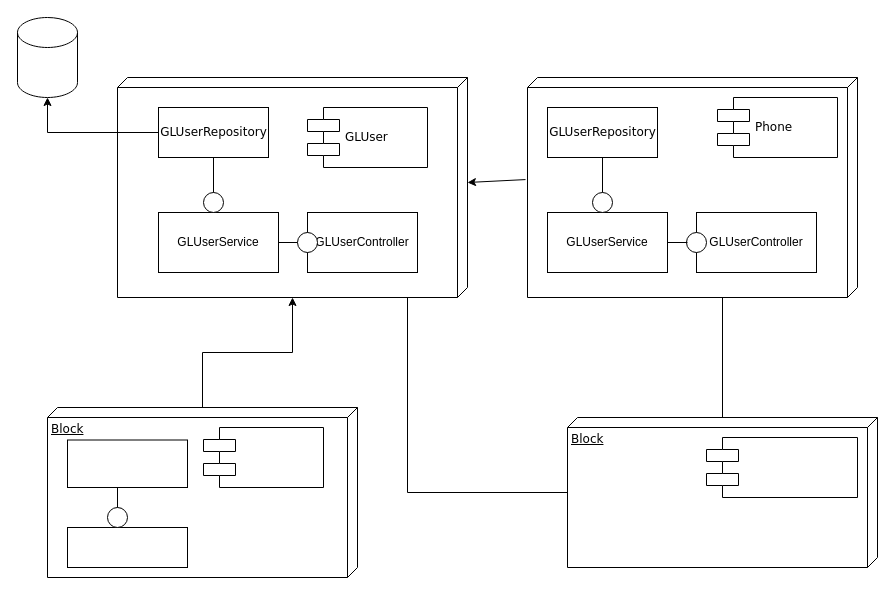
Image size: 895x595. Some labels were removed from this diagram. The shapes that lost their labels are listed below. From the top down, each one's box as (x1, y1, x2, y2) in pixels, then its label:
(66, 439, 188, 488): ApplicationSecurity
(202, 426, 324, 488): Security
(706, 436, 858, 498): GLTestApplication
(66, 526, 188, 568): JwtTokenUtils
